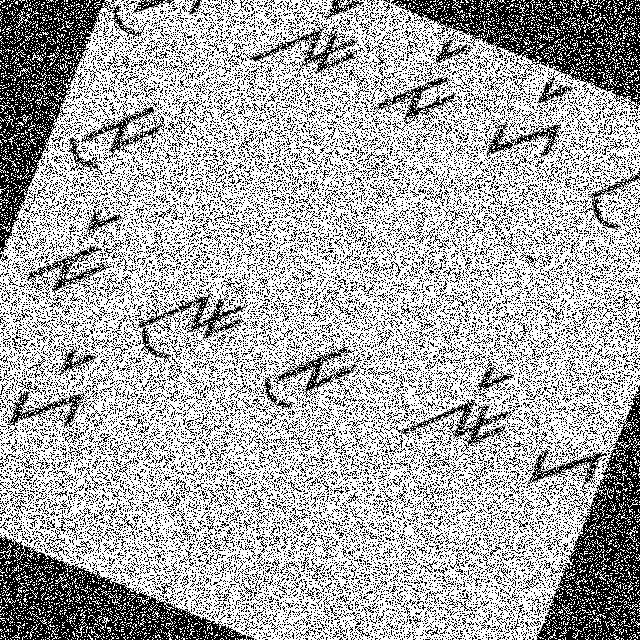ha: (517, 412, 614, 512)
har: (0, 324, 115, 456), (478, 57, 586, 180)
haw: (98, 0, 218, 61)
mbar: (20, 184, 134, 310), (371, 18, 483, 141)
mbaw: (242, 304, 374, 434), (53, 72, 176, 194)
ndar: (392, 332, 532, 473), (246, 0, 380, 102)
ndaw: (116, 252, 253, 384), (572, 130, 639, 262)
